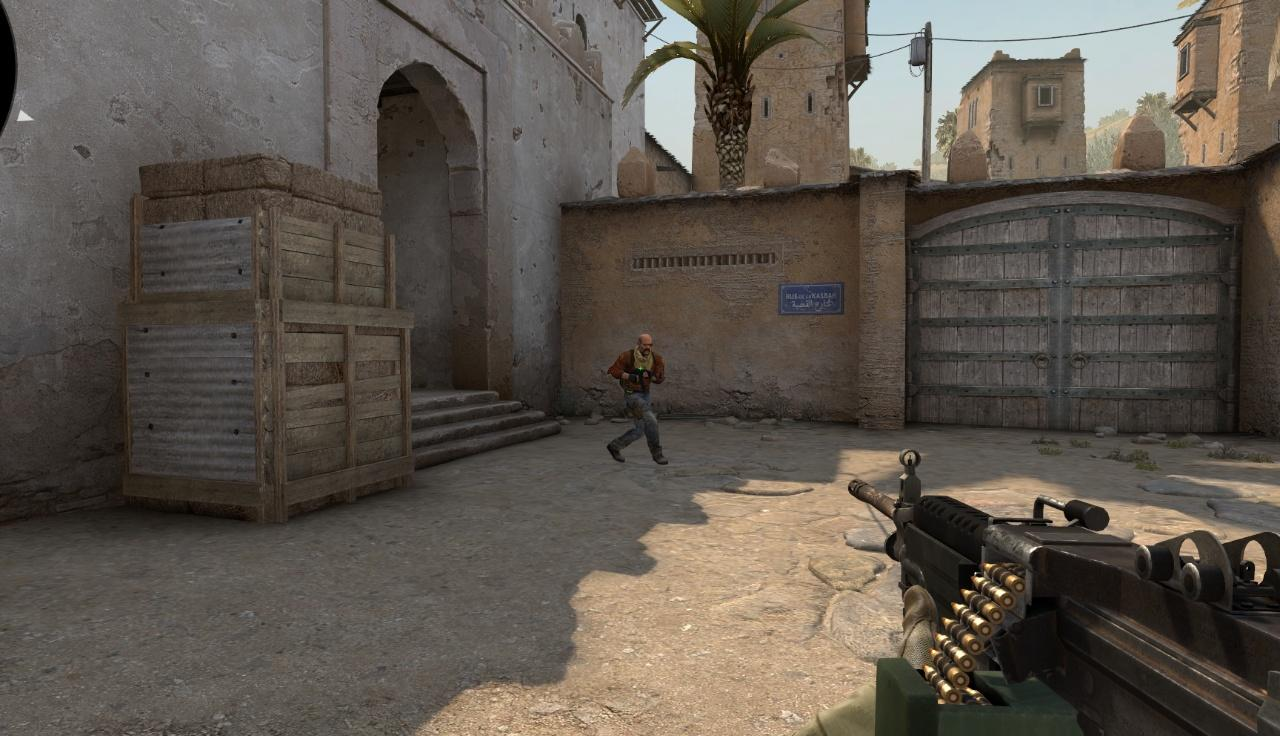rifle: (850, 450, 1280, 736)
tt: (612, 334, 668, 462)
tthead: (638, 334, 653, 356)
